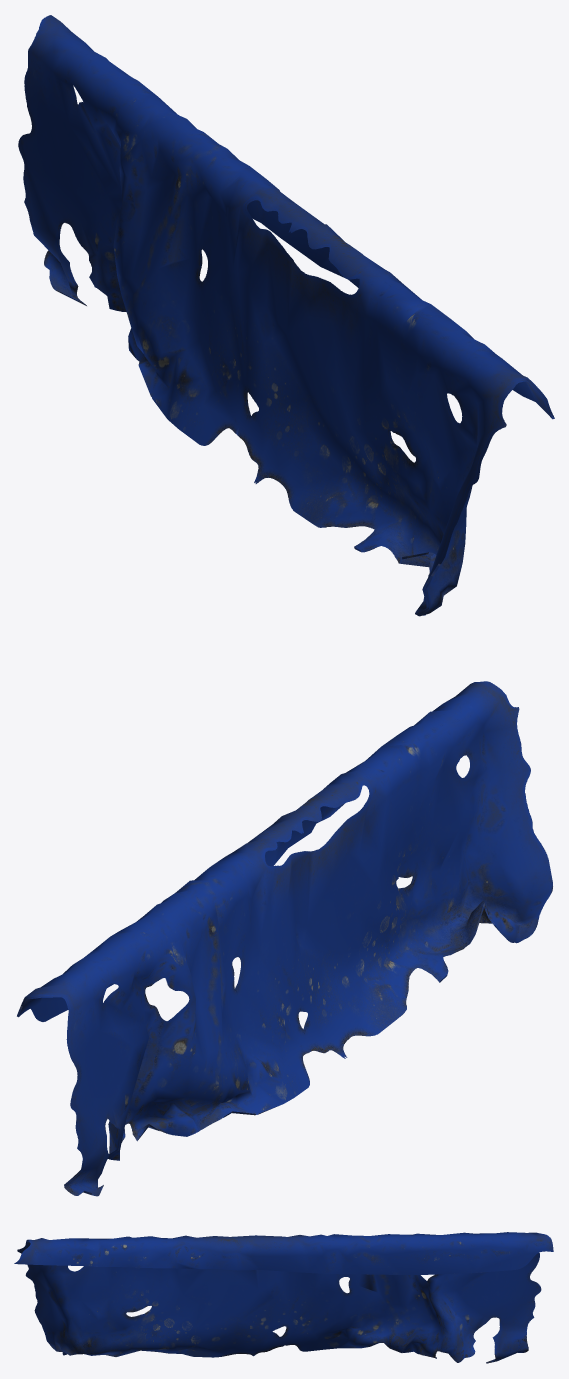
File: Prop_TornCloth.fbx
3 renders of one model, top to bottom at view 1: azimuth 30°, elevation 25°; view 2: azimuth 150°, elevation 25°; view 3: azimuth 270°, elevation 25°, orthographic. The views are drawn at different scales.
Visible parts, largest first — view 1: Prop_TornCloth; view 2: Prop_TornCloth; view 3: Prop_TornCloth.
Boxes of the visible parts, x1,y1,x2,y2 form: Prop_TornCloth: (18,15,554,616); Prop_TornCloth: (17,681,552,1196); Prop_TornCloth: (14,1232,553,1363).
Size of the model in its own units: 18.98 by 40.87 by 139.
